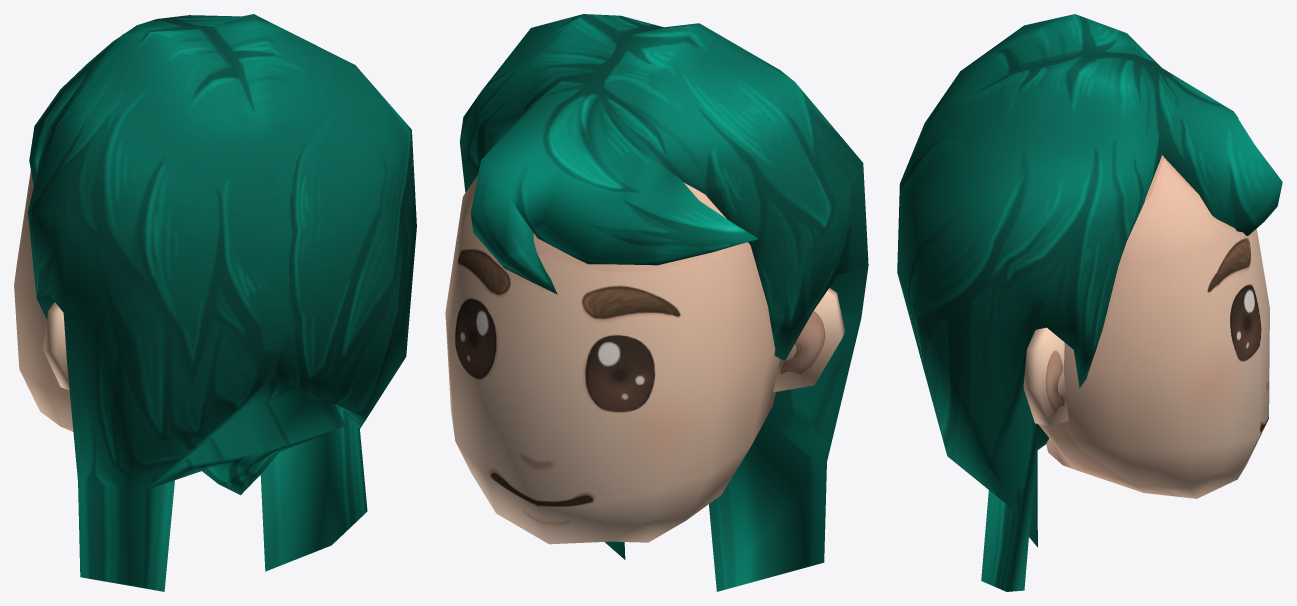
File: curious_girl_blue_head.glb
3 renders of one model, left to right at view 1: azimuth 30°, elevation 25°; view 2: azimuth 150°, elevation 25°; view 3: azimuth 270°, elevation 25°, orthographic. The views are drawn at different scales.
Parts seen in each view (by area): view 1: head; view 2: head; view 3: head.
Boxes of the visible parts, x1,y1,x2,y2 form: head: [14, 14, 416, 591]; head: [445, 14, 868, 591]; head: [897, 14, 1282, 591].
Size of the model in its own units: 0.3505 by 0.5148 by 0.3352.
2 materials, 1 textured.
